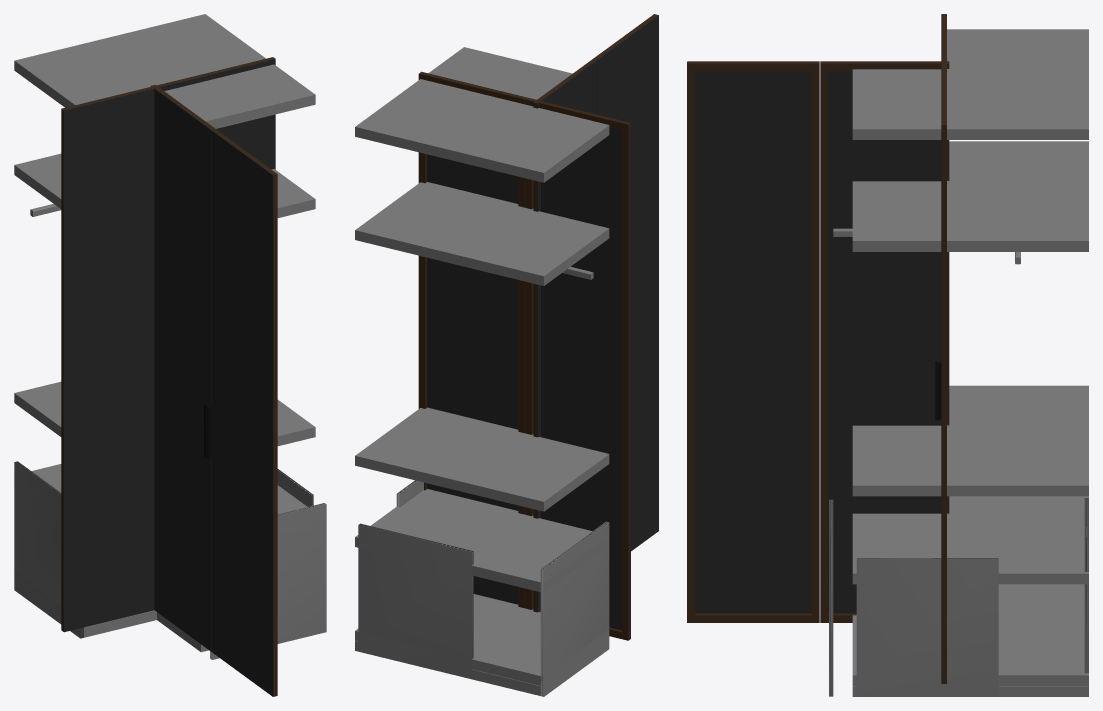
3 views of the same model, side by side, from view 1: azimuth 30°, elevation 25°; view 2: azimuth 150°, elevation 25°; view 3: azimuth 270°, elevation 25° (orthographic). The views are drawn at different scales.
Visible parts, largest first — view 1: showroom_04; view 2: showroom_04; view 3: showroom_04.
Boxes of the visible parts, <box> form: showroom_04: <box>14,14,326,696</box>; showroom_04: <box>355,14,658,696</box>; showroom_04: <box>687,14,1088,696</box>.
Bounding box in the file's own units: 1.11 × 2.68 × 1.7.
